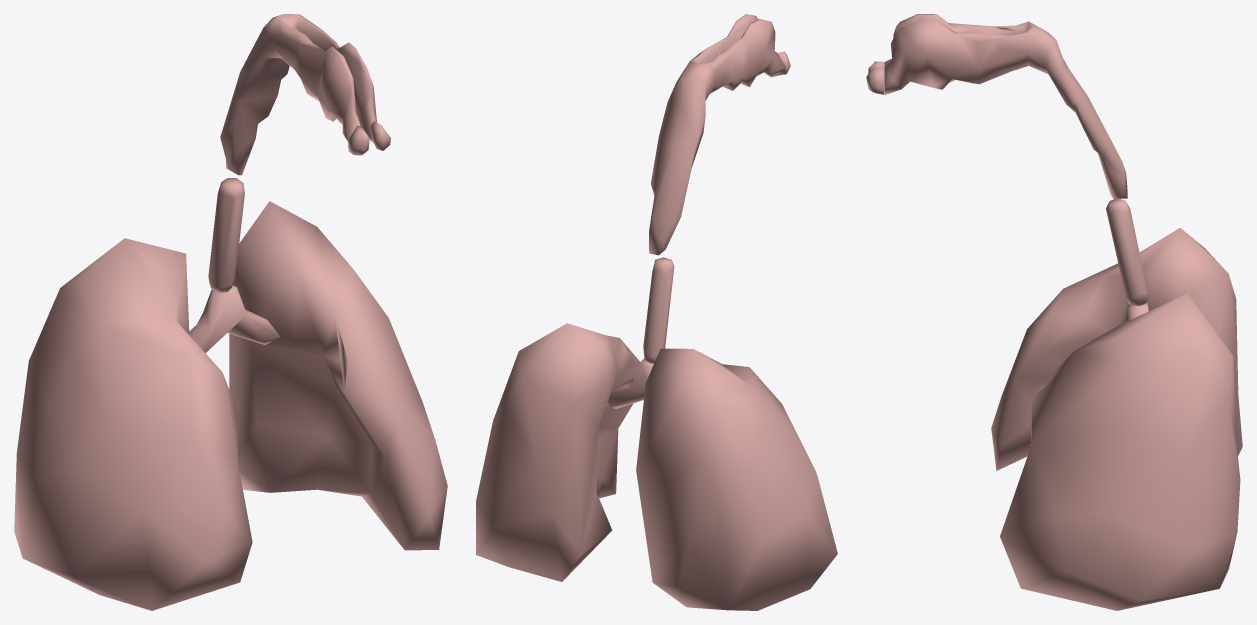
Rendered from pediatric_infant_female.respiratory.LOD3.glb.
3 views of the same model, side by side, from view 1: azimuth 30°, elevation 25°; view 2: azimuth 150°, elevation 25°; view 3: azimuth 270°, elevation 25° (orthographic). The views are drawn at different scales.
Visible parts, largest first — view 1: PEDIATRIC.INFANT.FEMALE.RESPIRATORY.LUNG.R, PEDIATRIC.INFANT.FEMALE.RESPIRATORY.LUNG.L, PEDIATRIC.INFANT.FEMALE.RESPIRATORY.ET2, PEDIATRIC.INFANT.FEMALE.RESPIRATORY.BB1, PEDIATRIC.INFANT.FEMALE.RESPIRATORY.TRACHEA, PEDIATRIC.INFANT.FEMALE.RESPIRATORY.ET1; view 2: PEDIATRIC.INFANT.FEMALE.RESPIRATORY.LUNG.R, PEDIATRIC.INFANT.FEMALE.RESPIRATORY.LUNG.L, PEDIATRIC.INFANT.FEMALE.RESPIRATORY.ET2, PEDIATRIC.INFANT.FEMALE.RESPIRATORY.TRACHEA, PEDIATRIC.INFANT.FEMALE.RESPIRATORY.BB1; view 3: PEDIATRIC.INFANT.FEMALE.RESPIRATORY.LUNG.L, PEDIATRIC.INFANT.FEMALE.RESPIRATORY.LUNG.R, PEDIATRIC.INFANT.FEMALE.RESPIRATORY.ET2, PEDIATRIC.INFANT.FEMALE.RESPIRATORY.TRACHEA.
Part boxes in pixels (x1,y1,x2,y2): PEDIATRIC.INFANT.FEMALE.RESPIRATORY.LUNG.R: (14, 238, 252, 610); PEDIATRIC.INFANT.FEMALE.RESPIRATORY.LUNG.L: (229, 201, 447, 550); PEDIATRIC.INFANT.FEMALE.RESPIRATORY.ET2: (220, 14, 376, 175); PEDIATRIC.INFANT.FEMALE.RESPIRATORY.BB1: (189, 285, 279, 353); PEDIATRIC.INFANT.FEMALE.RESPIRATORY.TRACHEA: (208, 178, 244, 292); PEDIATRIC.INFANT.FEMALE.RESPIRATORY.ET1: (348, 121, 390, 155); PEDIATRIC.INFANT.FEMALE.RESPIRATORY.LUNG.R: (636, 348, 837, 610); PEDIATRIC.INFANT.FEMALE.RESPIRATORY.LUNG.L: (476, 323, 640, 581); PEDIATRIC.INFANT.FEMALE.RESPIRATORY.ET2: (649, 14, 785, 255); PEDIATRIC.INFANT.FEMALE.RESPIRATORY.TRACHEA: (643, 257, 674, 363); PEDIATRIC.INFANT.FEMALE.RESPIRATORY.BB1: (607, 358, 653, 408); PEDIATRIC.INFANT.FEMALE.RESPIRATORY.LUNG.L: (1000, 293, 1240, 610); PEDIATRIC.INFANT.FEMALE.RESPIRATORY.LUNG.R: (991, 228, 1242, 470); PEDIATRIC.INFANT.FEMALE.RESPIRATORY.ET2: (884, 14, 1127, 198); PEDIATRIC.INFANT.FEMALE.RESPIRATORY.TRACHEA: (1106, 199, 1148, 305).
Size of the model in its own units: 0.1387 by 0.1923 by 0.1283.
